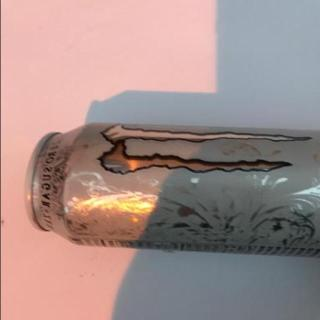Anorganik: (23, 121, 320, 264)
